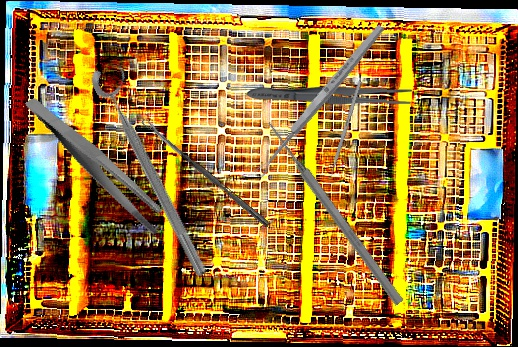Dressing Forceps: (23, 70, 172, 258), (246, 83, 413, 107)
Fixation Ring: (87, 57, 224, 281)
Pusher: (262, 117, 407, 308), (326, 80, 362, 188)
Surgical Spoon: (252, 22, 387, 179), (140, 117, 272, 228)
